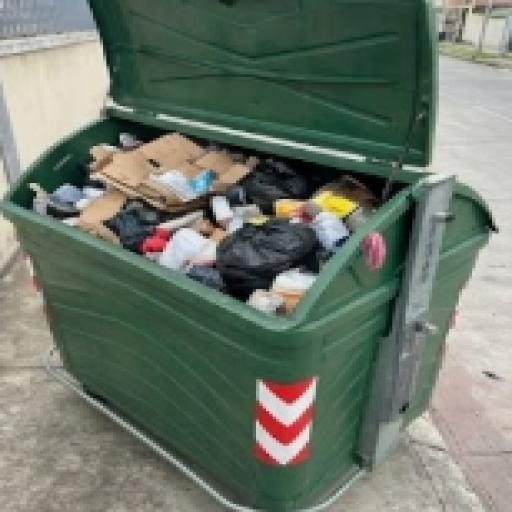Contenedor_Lleno: (3, 0, 492, 509)
